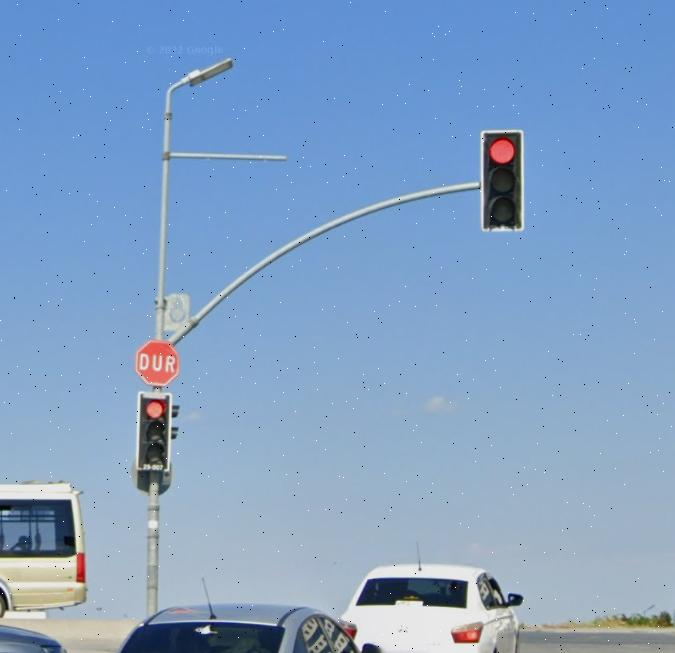redlight: (482, 132, 521, 221), (139, 394, 170, 471)
